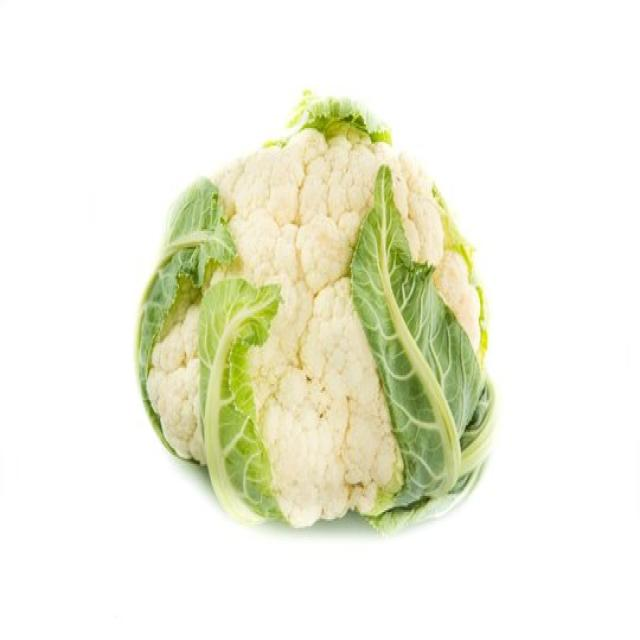Cauliflower: (134, 91, 495, 533)
